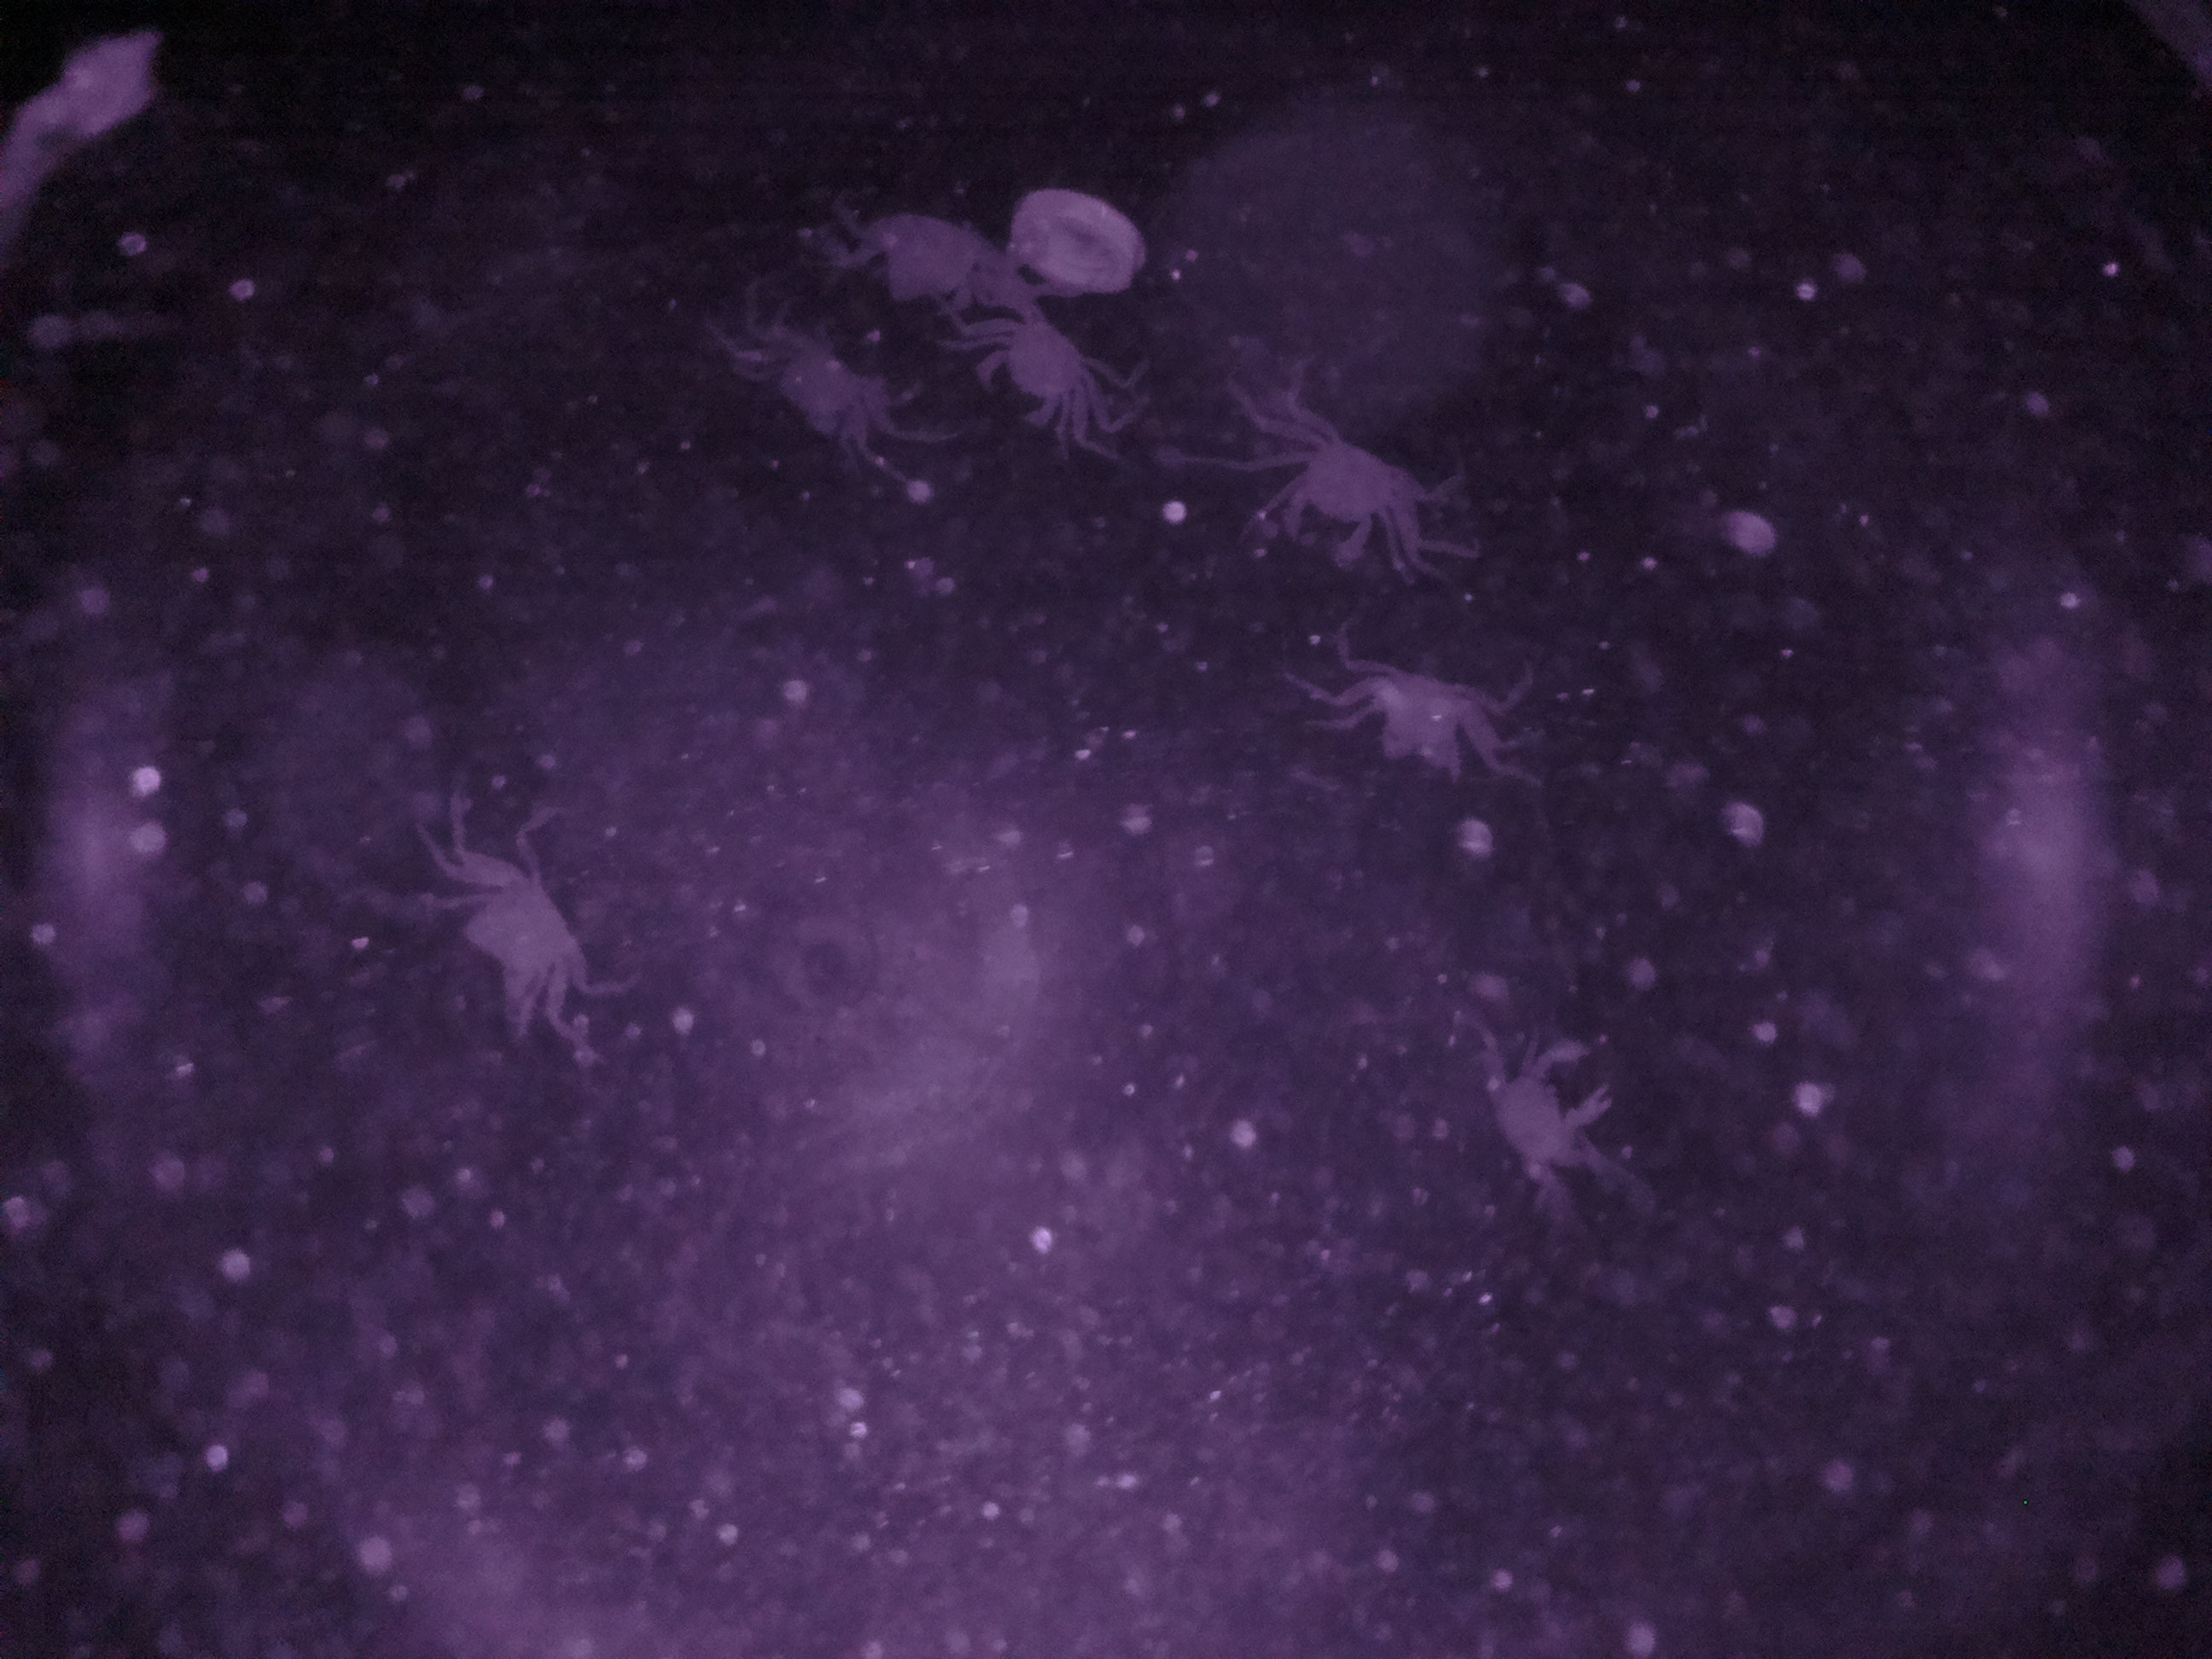Crab: (425, 819, 634, 1051), (1327, 643, 1531, 796), (1467, 1016, 1622, 1216), (961, 274, 1132, 451), (1256, 413, 1426, 582)
